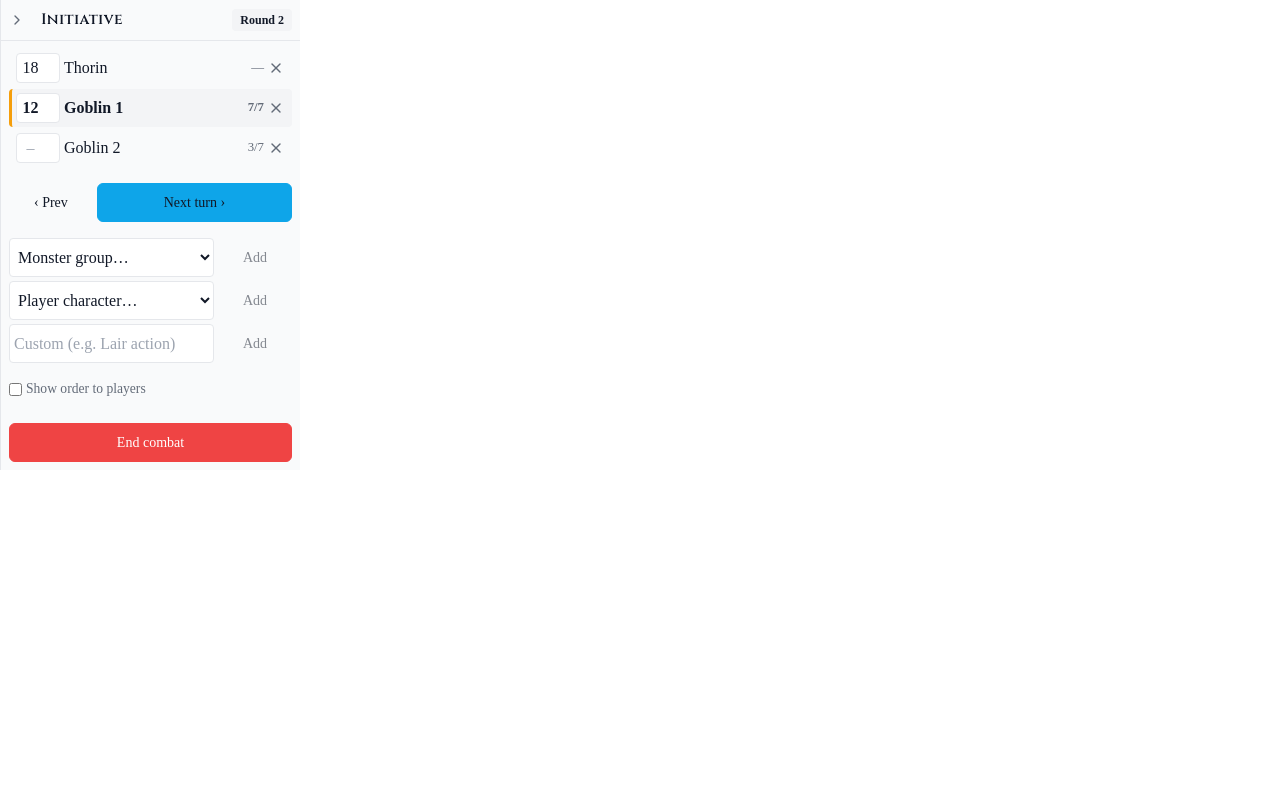
Scenario: InitiativeTracker › asks before ending the combat
What coordinates should you click on to do the following:
click the button with test id "end-combat"
I would click on:
 (150, 443)
Its box is [9,423,292,462].
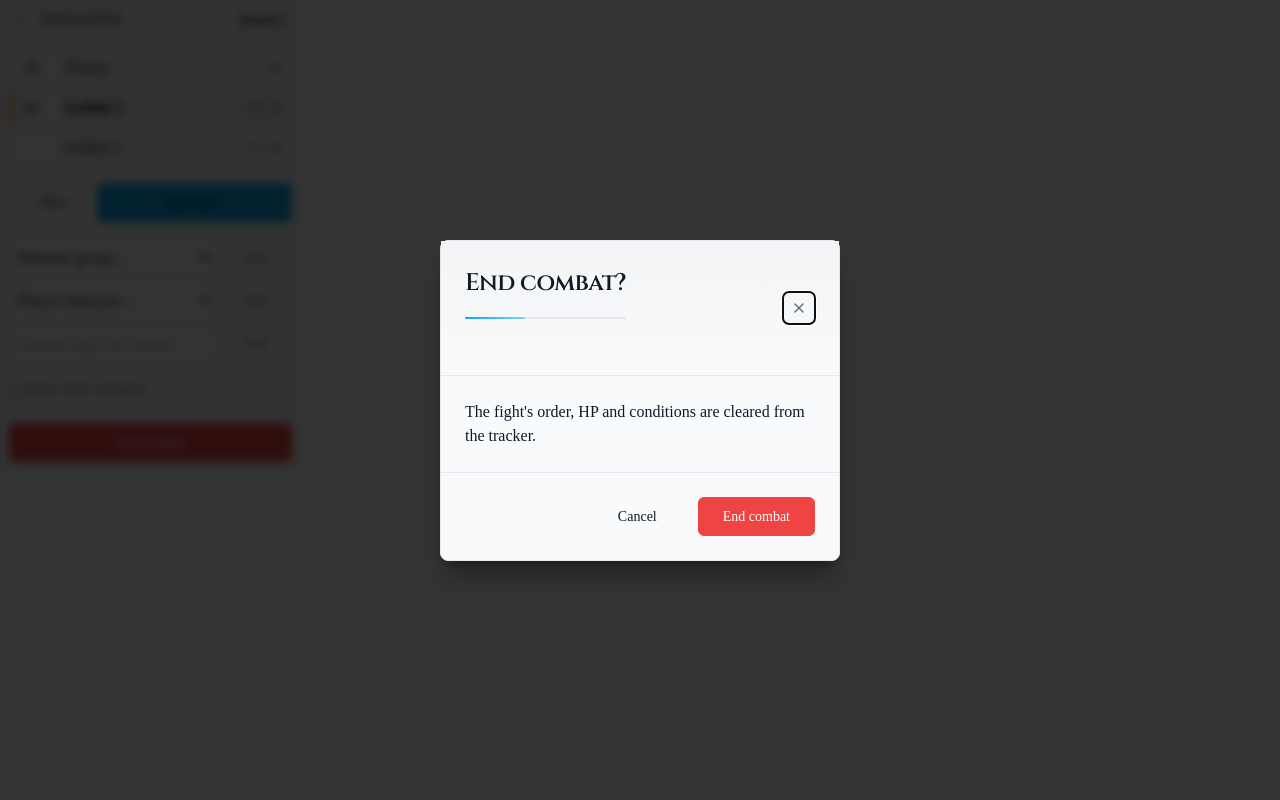
What coordinates should you click on to do the following:
click the button with test id "confirm-end-combat"
I would click on:
 (756, 516)
Its box is [698,496,815,536].
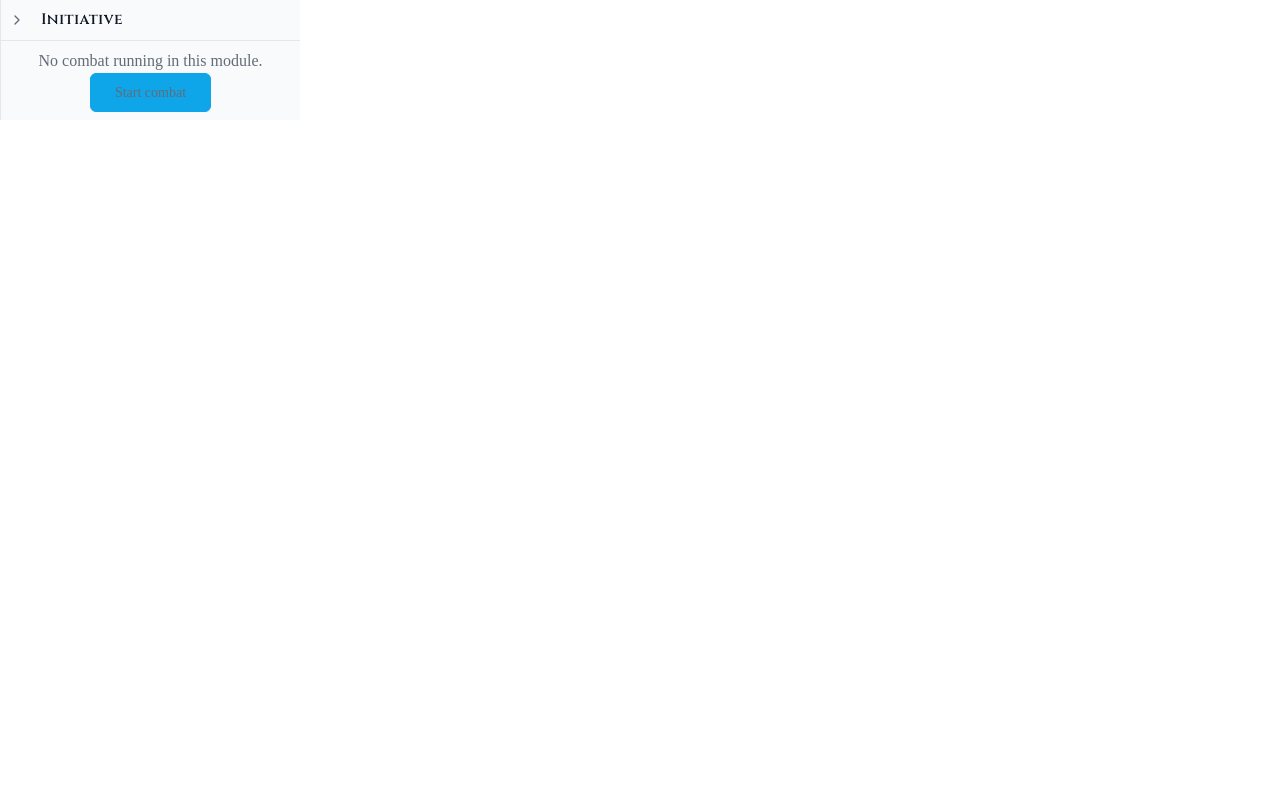
Expected: the button with test id "start-combat" is shown, [90,73,211,112]
